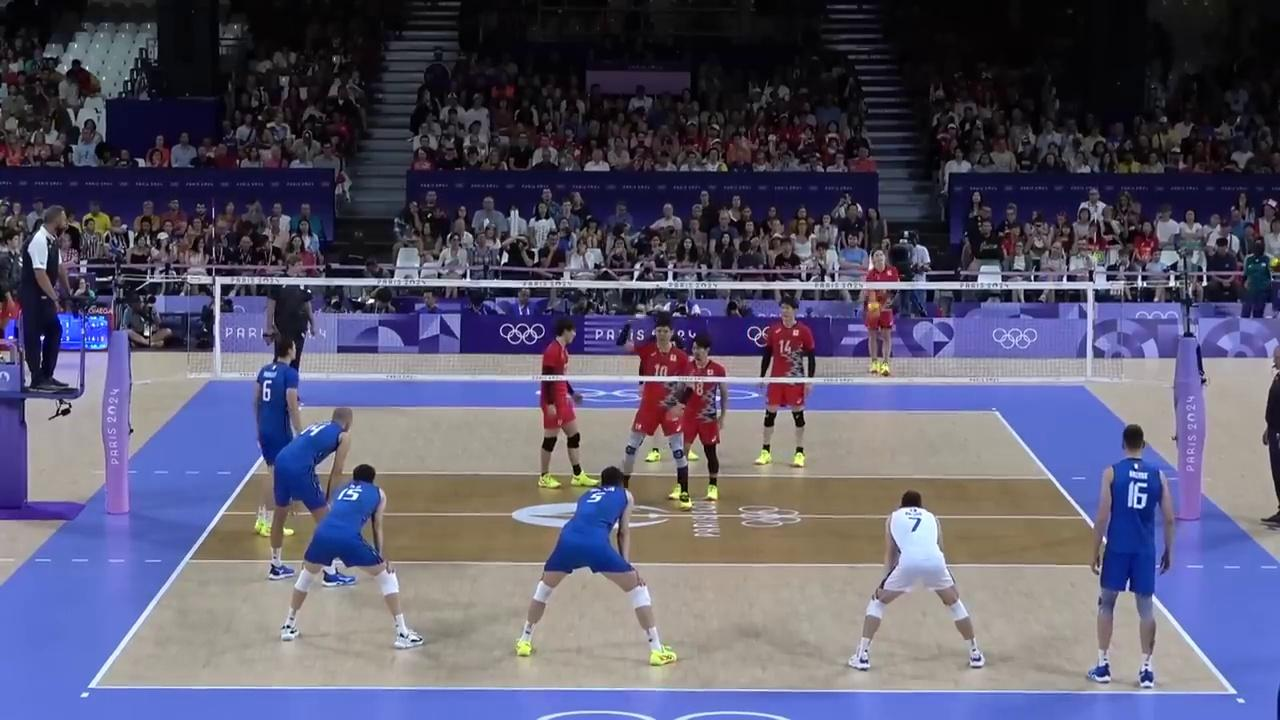ball: (869, 302, 880, 312)
